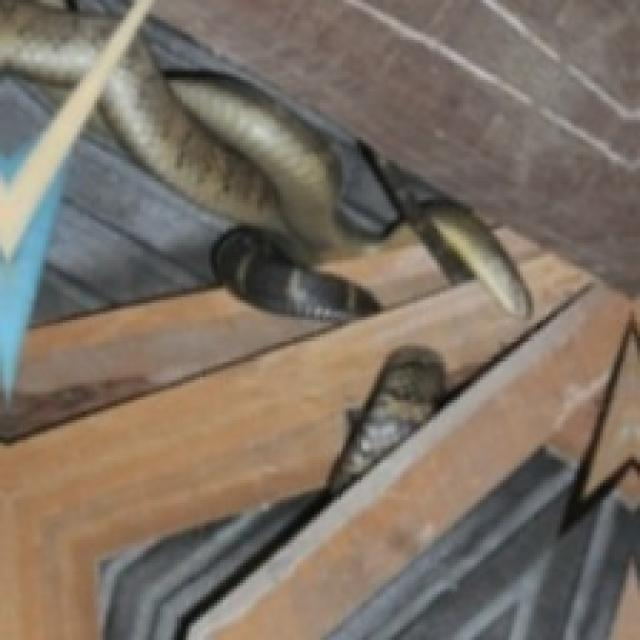king cobra: (100, 34, 529, 311), (0, 0, 111, 83)
